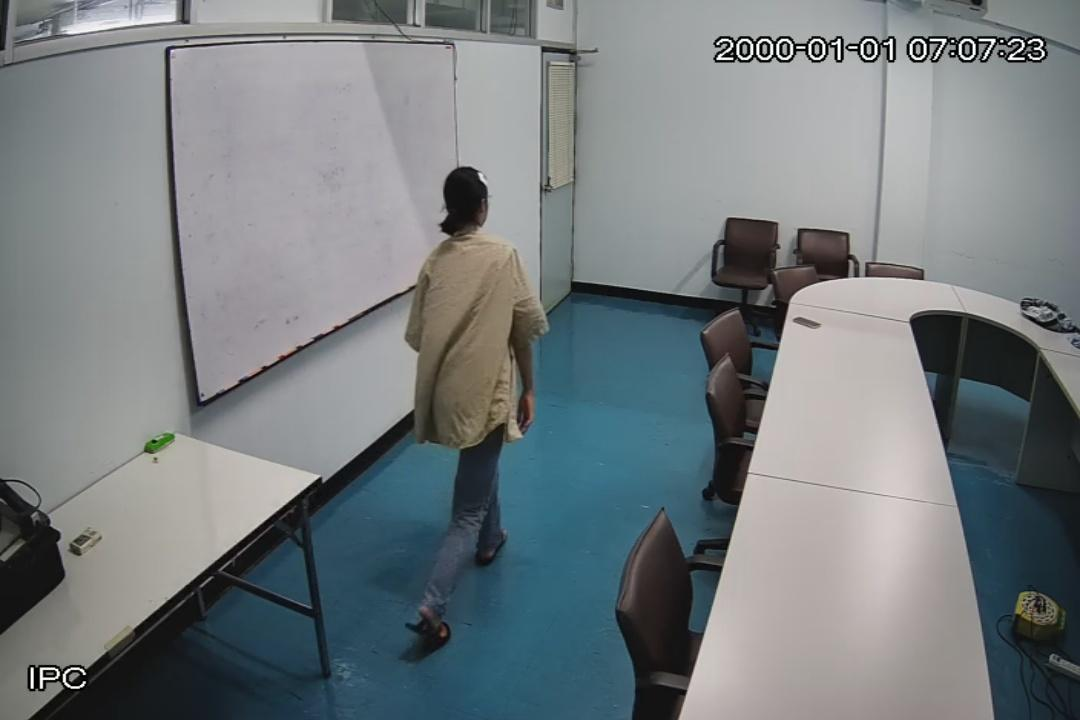normal: (399, 166, 547, 637)
